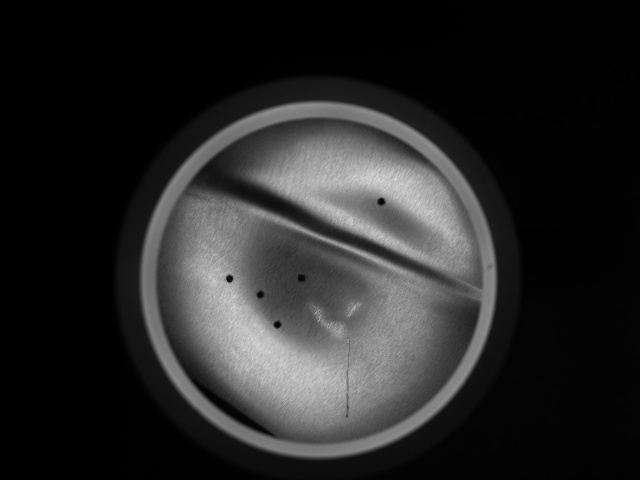ca_shang: (322, 336, 378, 420)
zhe_zhou: (187, 169, 478, 325)
zhen_kong: (286, 264, 319, 295), (366, 187, 399, 218), (264, 310, 291, 341), (246, 281, 275, 307), (218, 267, 243, 290)
